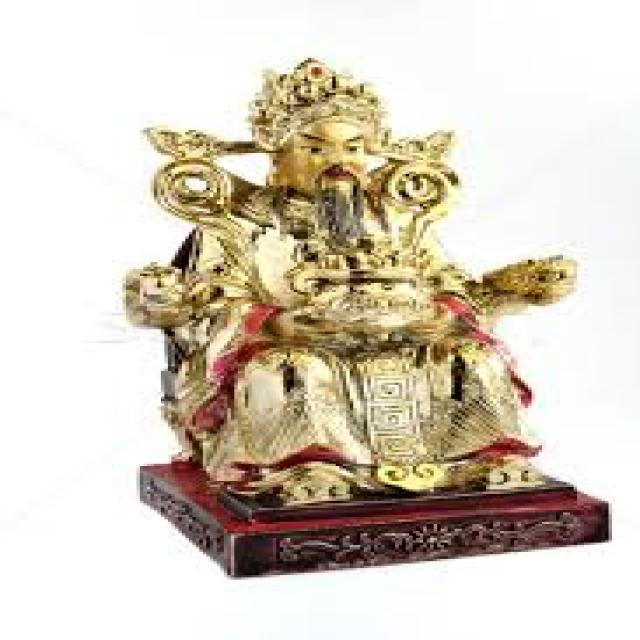Cai shen: (135, 52, 519, 500)
